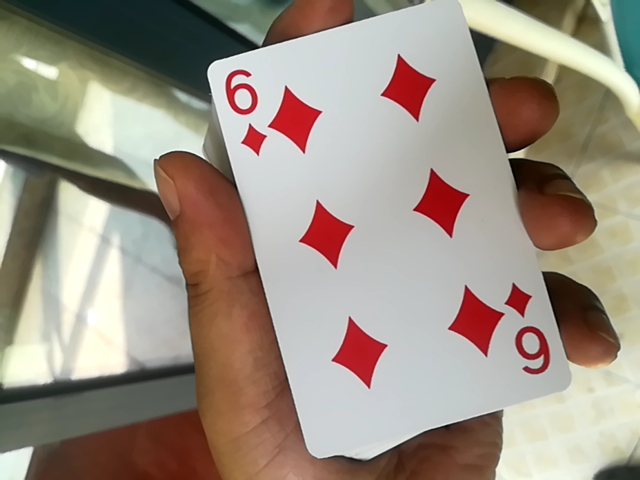fk 6: (210, 8, 561, 459)
